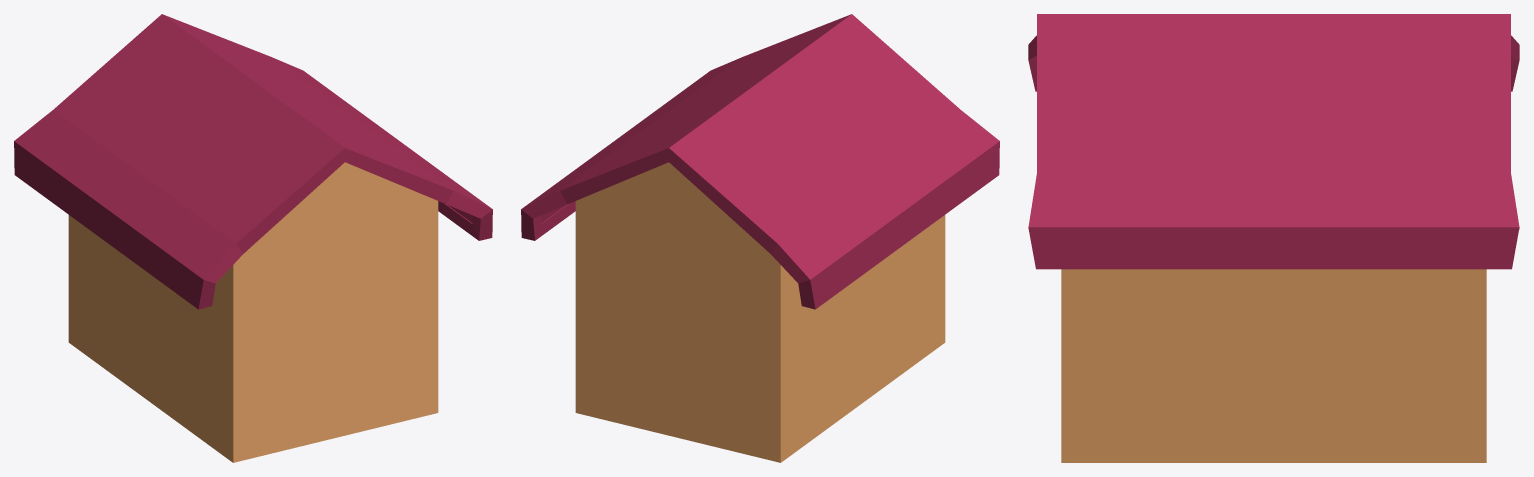
File: House_1.glb
3 renders of one model, left to right at view 1: azimuth 30°, elevation 25°; view 2: azimuth 150°, elevation 25°; view 3: azimuth 270°, elevation 25°, orthographic. The views are drawn at different scales.
Parts seen in each view (by area): view 1: House_1; view 2: House_1; view 3: House_1.
Part boxes in pixels (x1=…): House_1: x1=14, y1=14, x2=492, y2=462; House_1: x1=521, y1=14, x2=999, y2=462; House_1: x1=1028, y1=14, x2=1519, y2=462.
Size of what is drawn, in the model's own units: 2.87 by 2.77 by 3.2.
1 material, 1 textured.
